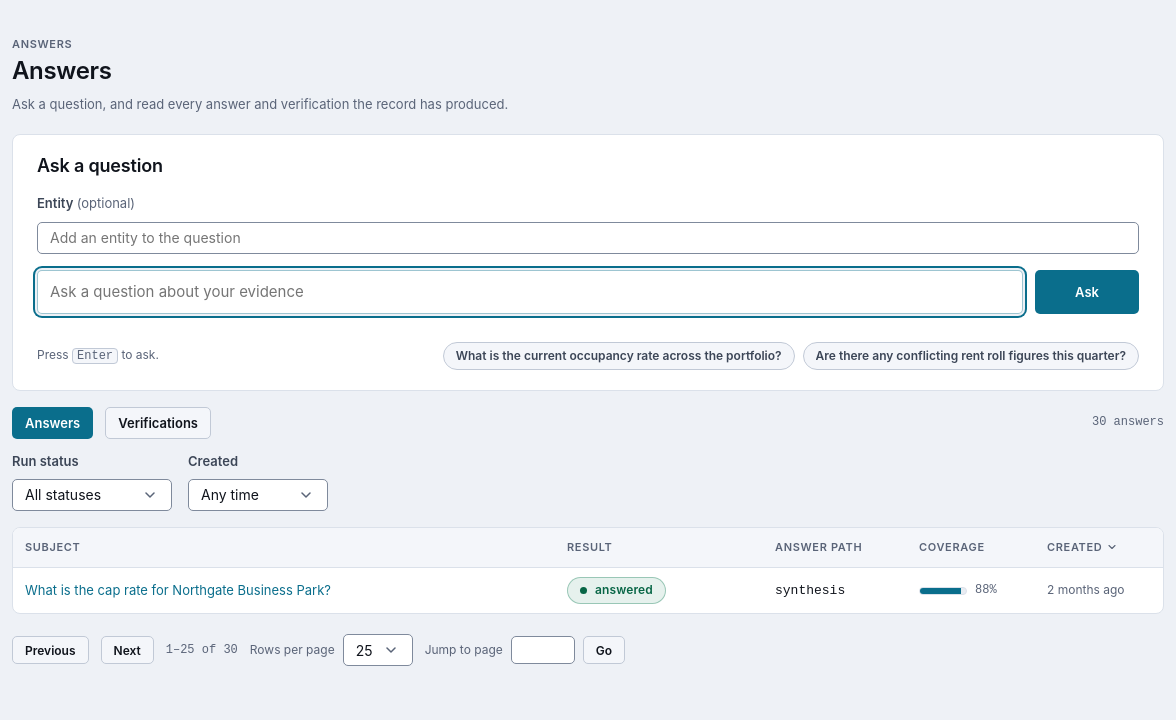
it: AnswersPage › paginates with Previous/Next driven by skip, disabled at the ends
Check: the text "What is the cap rate for Northgate Business Park?" is shown, box x1=25 y1=582 x2=331 y2=598
Click the button "Next".
click(127, 650)  # box x1=100 y1=636 x2=154 y2=664
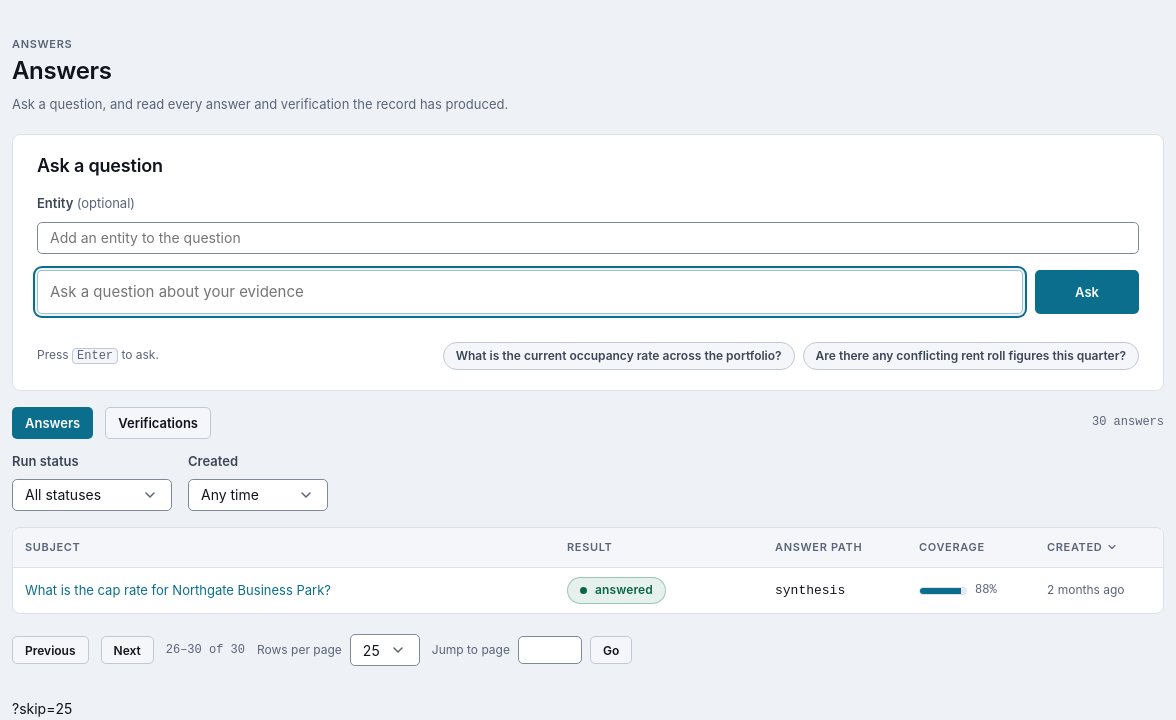
Check: the text "26–30 of 30" is shown, box x1=166 y1=641 x2=245 y2=659
